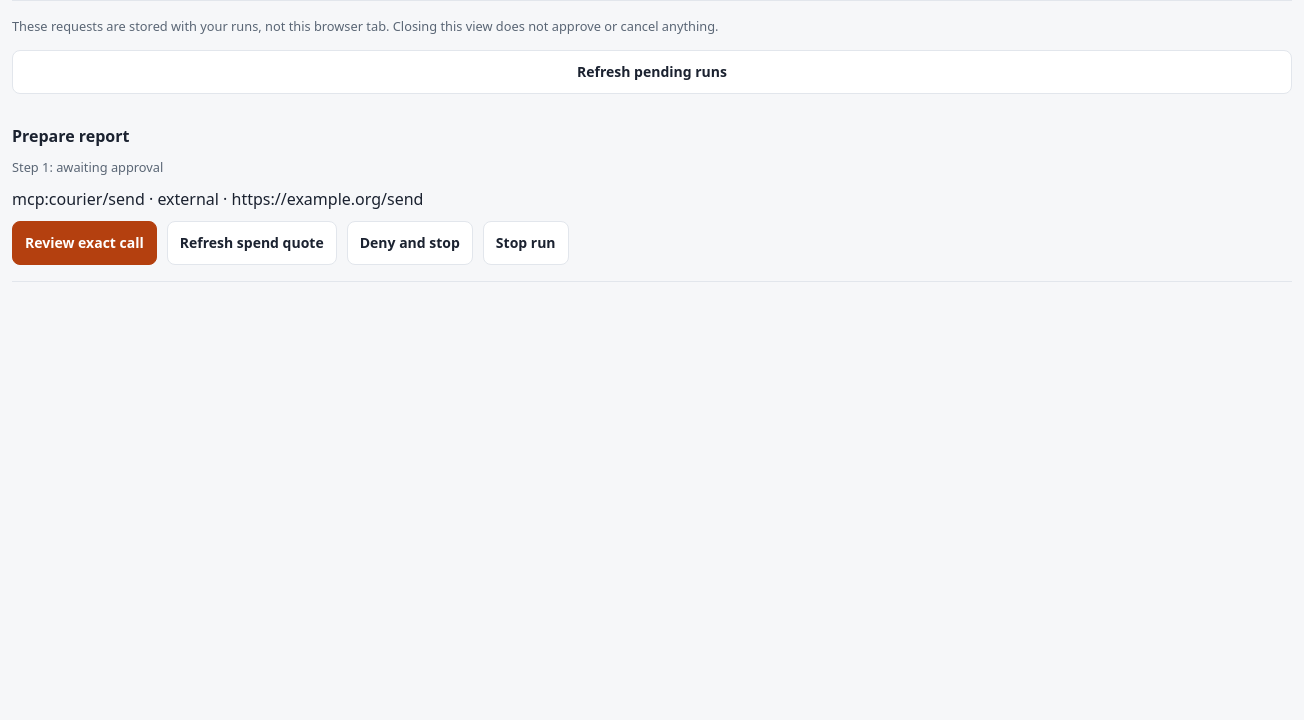
Scenario: durable workflow approval inbox › refreshes the quote only on explicit action and retains no old grant after failure
Click the button "Review exact call". click: click(84, 243)
box: [12,221,157,265]
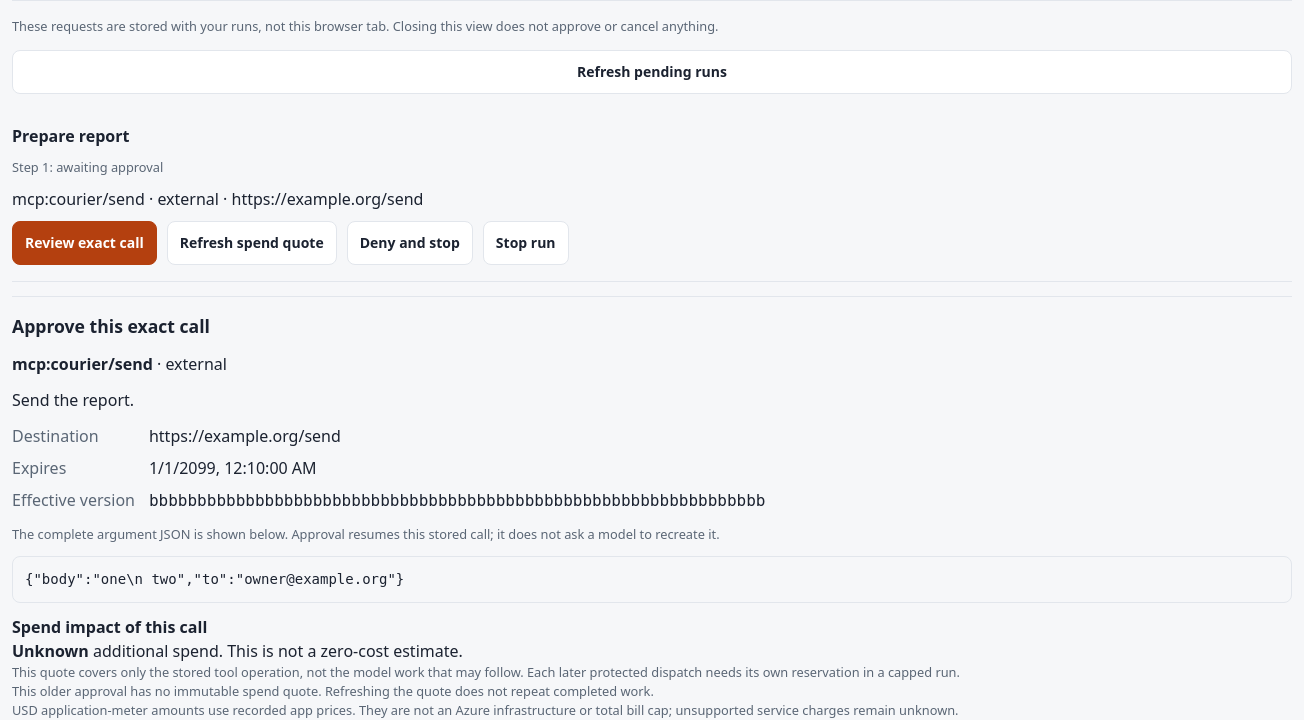
Check: the text "{\"body\":\"one\\n two\",\"to\":\"owner@example.org\"}" is shown, box [12,556,1292,603]
Click the button "Refresh spend quote". click: click(252, 243)
box: [167,221,337,265]
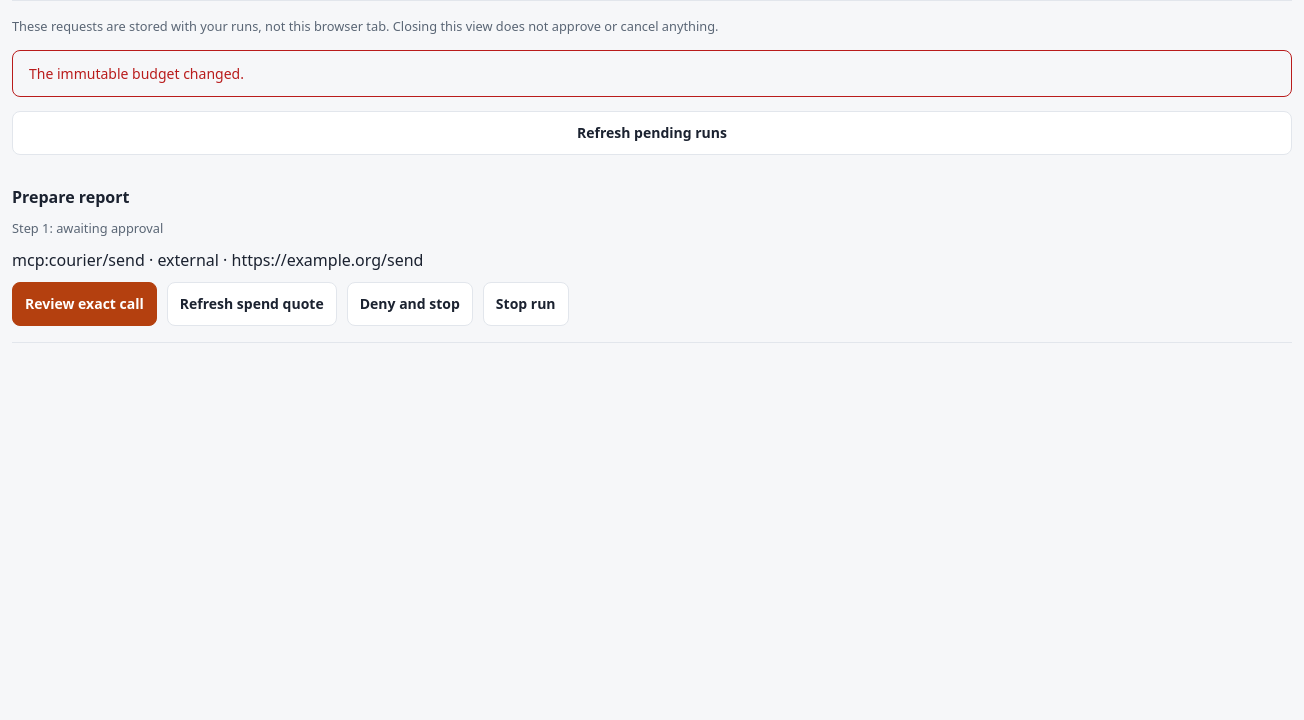
Check: the message shows "budget changed", box [29,64,244,83]
